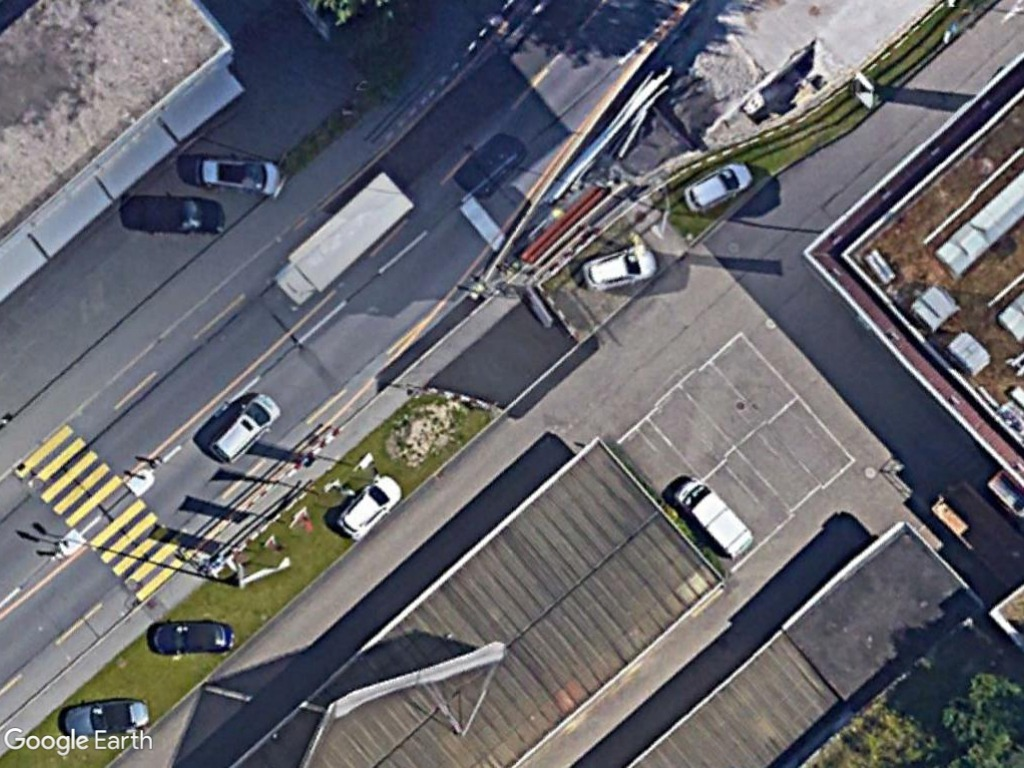car: (207, 389, 284, 466), (327, 471, 403, 541), (679, 158, 754, 215), (192, 154, 286, 199), (576, 246, 659, 294), (59, 693, 151, 736), (148, 618, 237, 657)
truck: (268, 166, 412, 312)
van: (671, 476, 756, 561)
